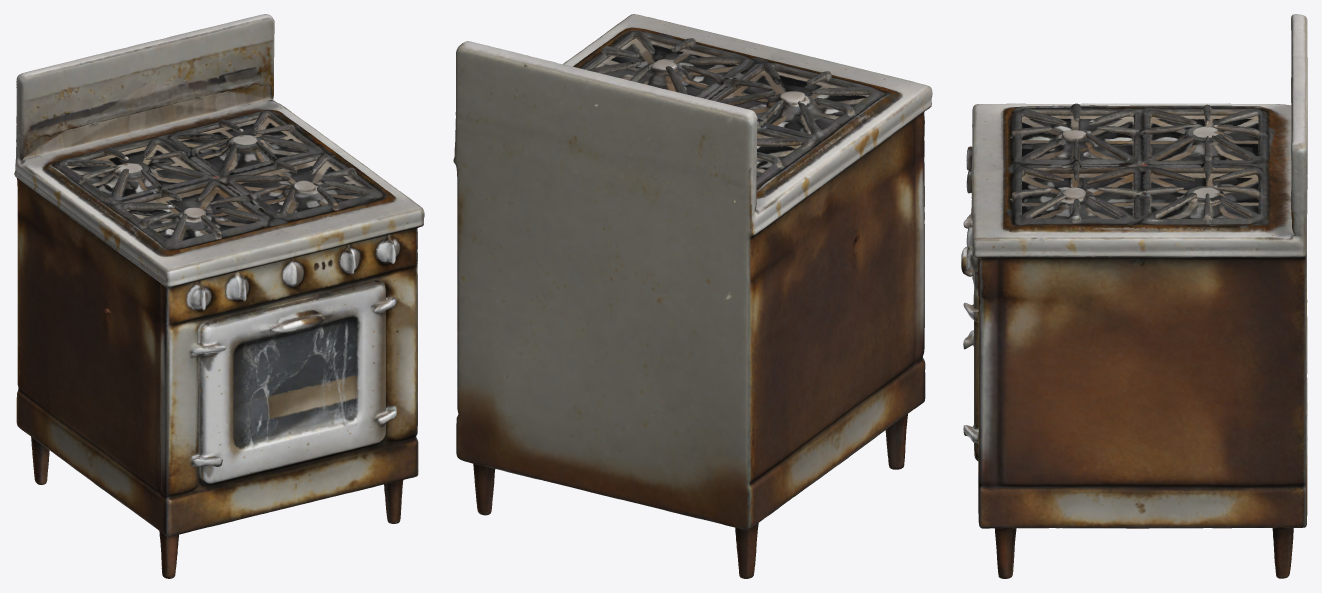
Rendered from Rustic_Stove.glb.
3 renders of one model, left to right at view 1: azimuth 30°, elevation 25°; view 2: azimuth 150°, elevation 25°; view 3: azimuth 270°, elevation 25°, orthographic. The views are drawn at different scales.
Size of the model in its own units: 1.34 by 2.01 by 1.43.
1 material, 1 textured.
